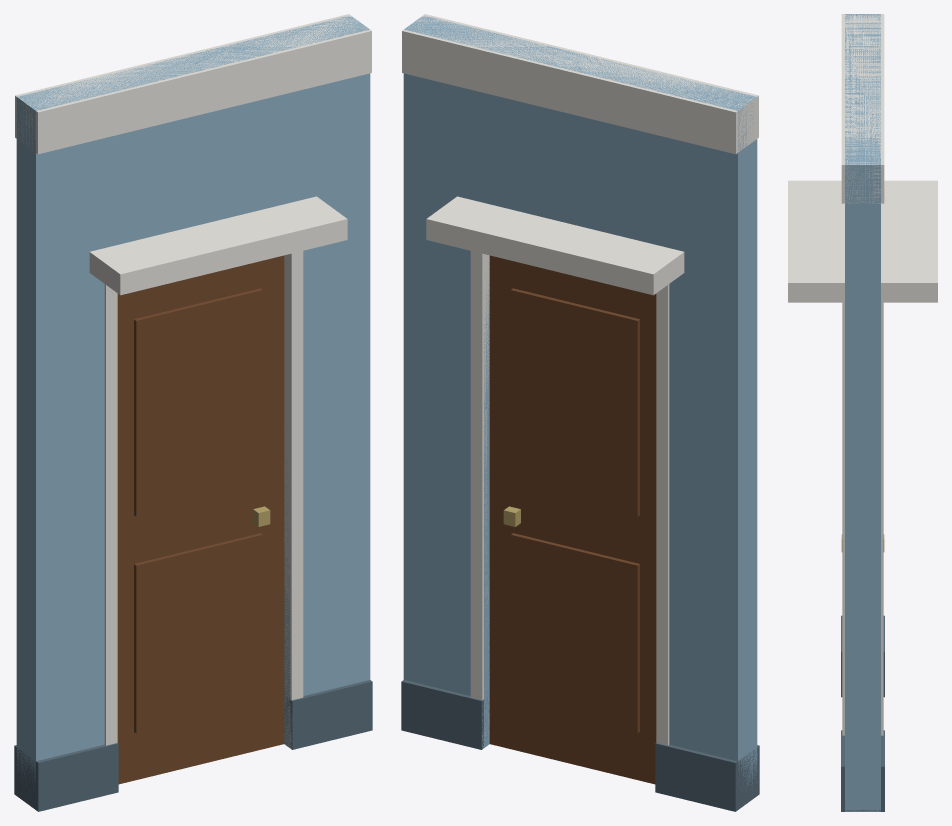
File: mod-reboco-azul-porta.gltf
The picture shows the model from 3 angles, left to right: view 1: azimuth 30°, elevation 25°; view 2: azimuth 150°, elevation 25°; view 3: azimuth 270°, elevation 25°; orthographic projection. The views are drawn at different scales.
Parts seen in each view (by area): view 1: mod-reboco-azul-porta; view 2: mod-reboco-azul-porta; view 3: mod-reboco-azul-porta.
Boxes of the visible parts, x1,y1,x2,y2 form: mod-reboco-azul-porta: (14, 14, 372, 811); mod-reboco-azul-porta: (401, 14, 759, 811); mod-reboco-azul-porta: (788, 14, 937, 811).
Size of the model in its own units: 1 by 2 by 0.42.
